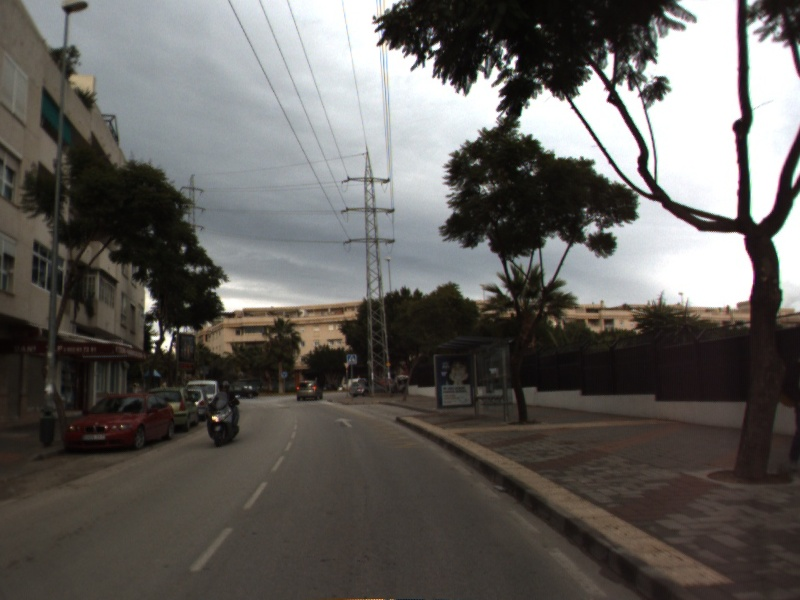STRAIGHT: (332, 415, 356, 429)
